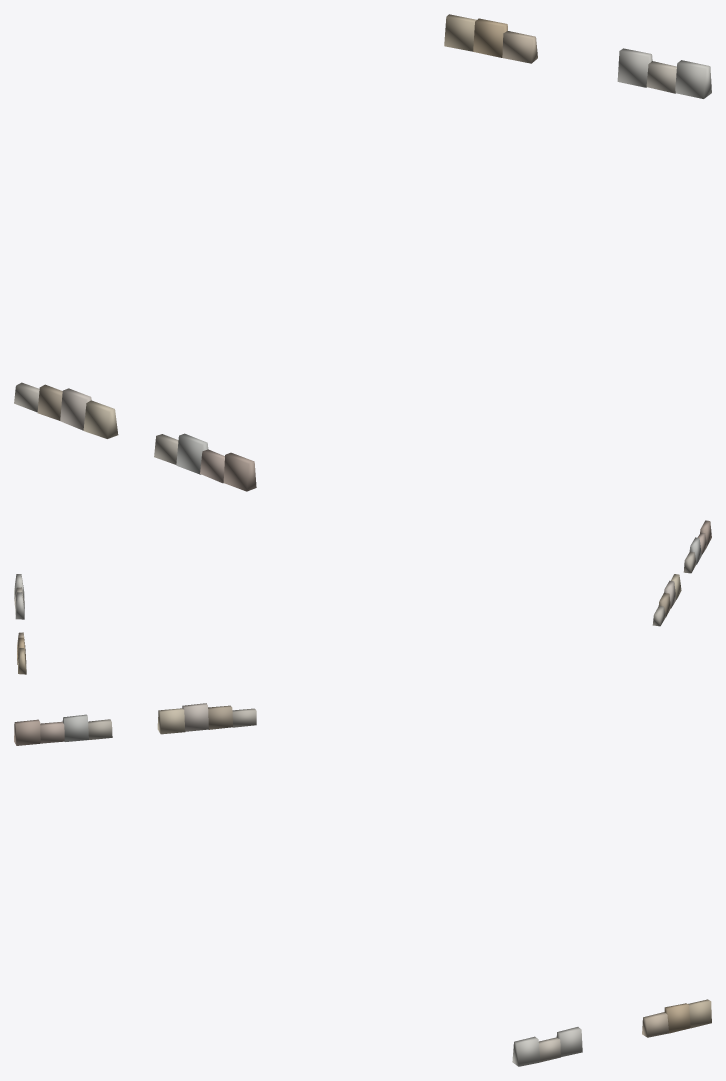
Rendered from farm_-46_-43_far.glb.
The picture shows the model from 3 angles, top to bottom: view 1: azimuth 30°, elevation 25°; view 2: azimuth 150°, elevation 25°; view 3: azimuth 270°, elevation 25°; orthographic projection. The views are drawn at different scales.
Visible parts, largest first — view 1: geometry_0; view 2: geometry_0; view 3: geometry_0.
Boxes of the visible parts, x1,y1,x2,y2 form: geometry_0: (14, 14, 711, 491); geometry_0: (14, 520, 711, 674); geometry_0: (14, 703, 711, 1066).
Bounding box in the file's own units: 45.61 × 3.7 × 41.57.
